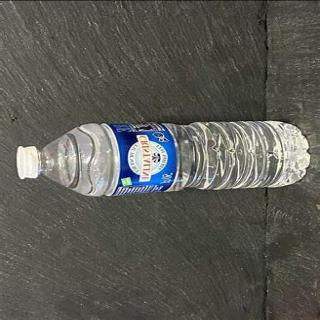Anorganik: (14, 120, 312, 196)
